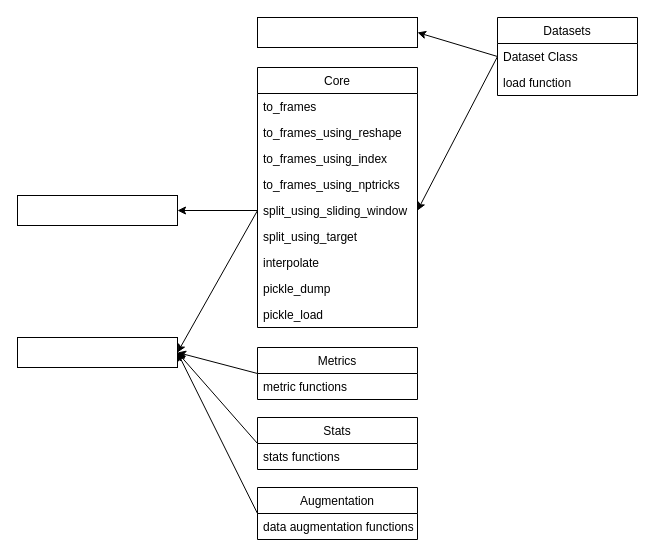
Image size: 655x560. Some labels were removed from this diagram. The centre of each missing label's shape, as x and y in pixels:
numpy: the point at 97,352
pandas: the point at 337,32
Scipy: the point at 97,210
